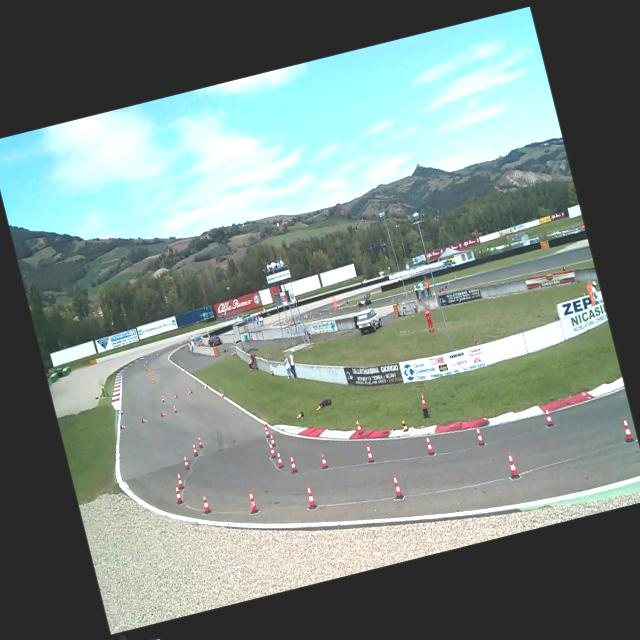large_orange_cone: (388, 472, 404, 500), (504, 451, 520, 479), (618, 415, 634, 443), (303, 483, 318, 509), (245, 490, 259, 514), (199, 492, 212, 514), (424, 434, 436, 455), (172, 484, 184, 504), (542, 406, 554, 426), (287, 454, 298, 474), (474, 425, 484, 446), (364, 442, 374, 462), (318, 449, 328, 469), (274, 449, 284, 468), (174, 471, 184, 488), (354, 418, 364, 435), (418, 392, 426, 409), (182, 454, 190, 470), (268, 442, 276, 458), (268, 433, 276, 447), (190, 443, 198, 456), (263, 424, 270, 437), (196, 436, 203, 448), (262, 414, 268, 427), (295, 411, 304, 419), (160, 410, 168, 418), (140, 416, 148, 424), (172, 403, 178, 413), (119, 423, 127, 430), (118, 407, 124, 415), (160, 394, 165, 403), (187, 388, 193, 394), (172, 394, 178, 399), (202, 384, 208, 389), (220, 391, 224, 397)
unknown_cone: (399, 414, 409, 432)
